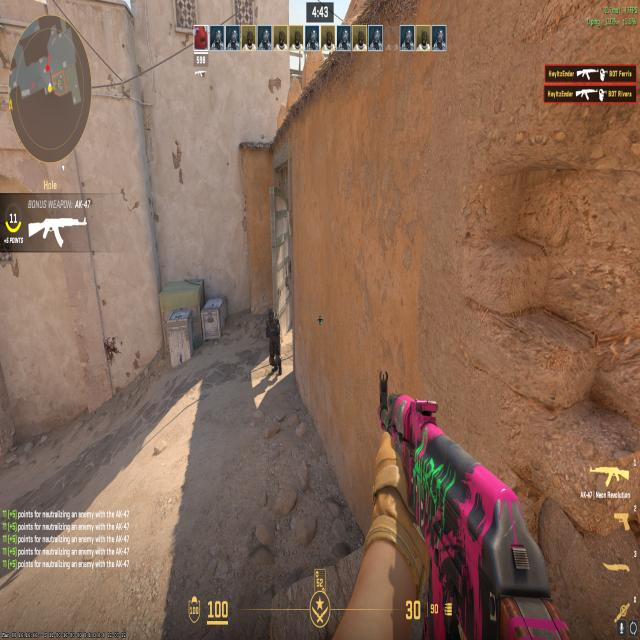ct: (263, 302, 284, 381)
